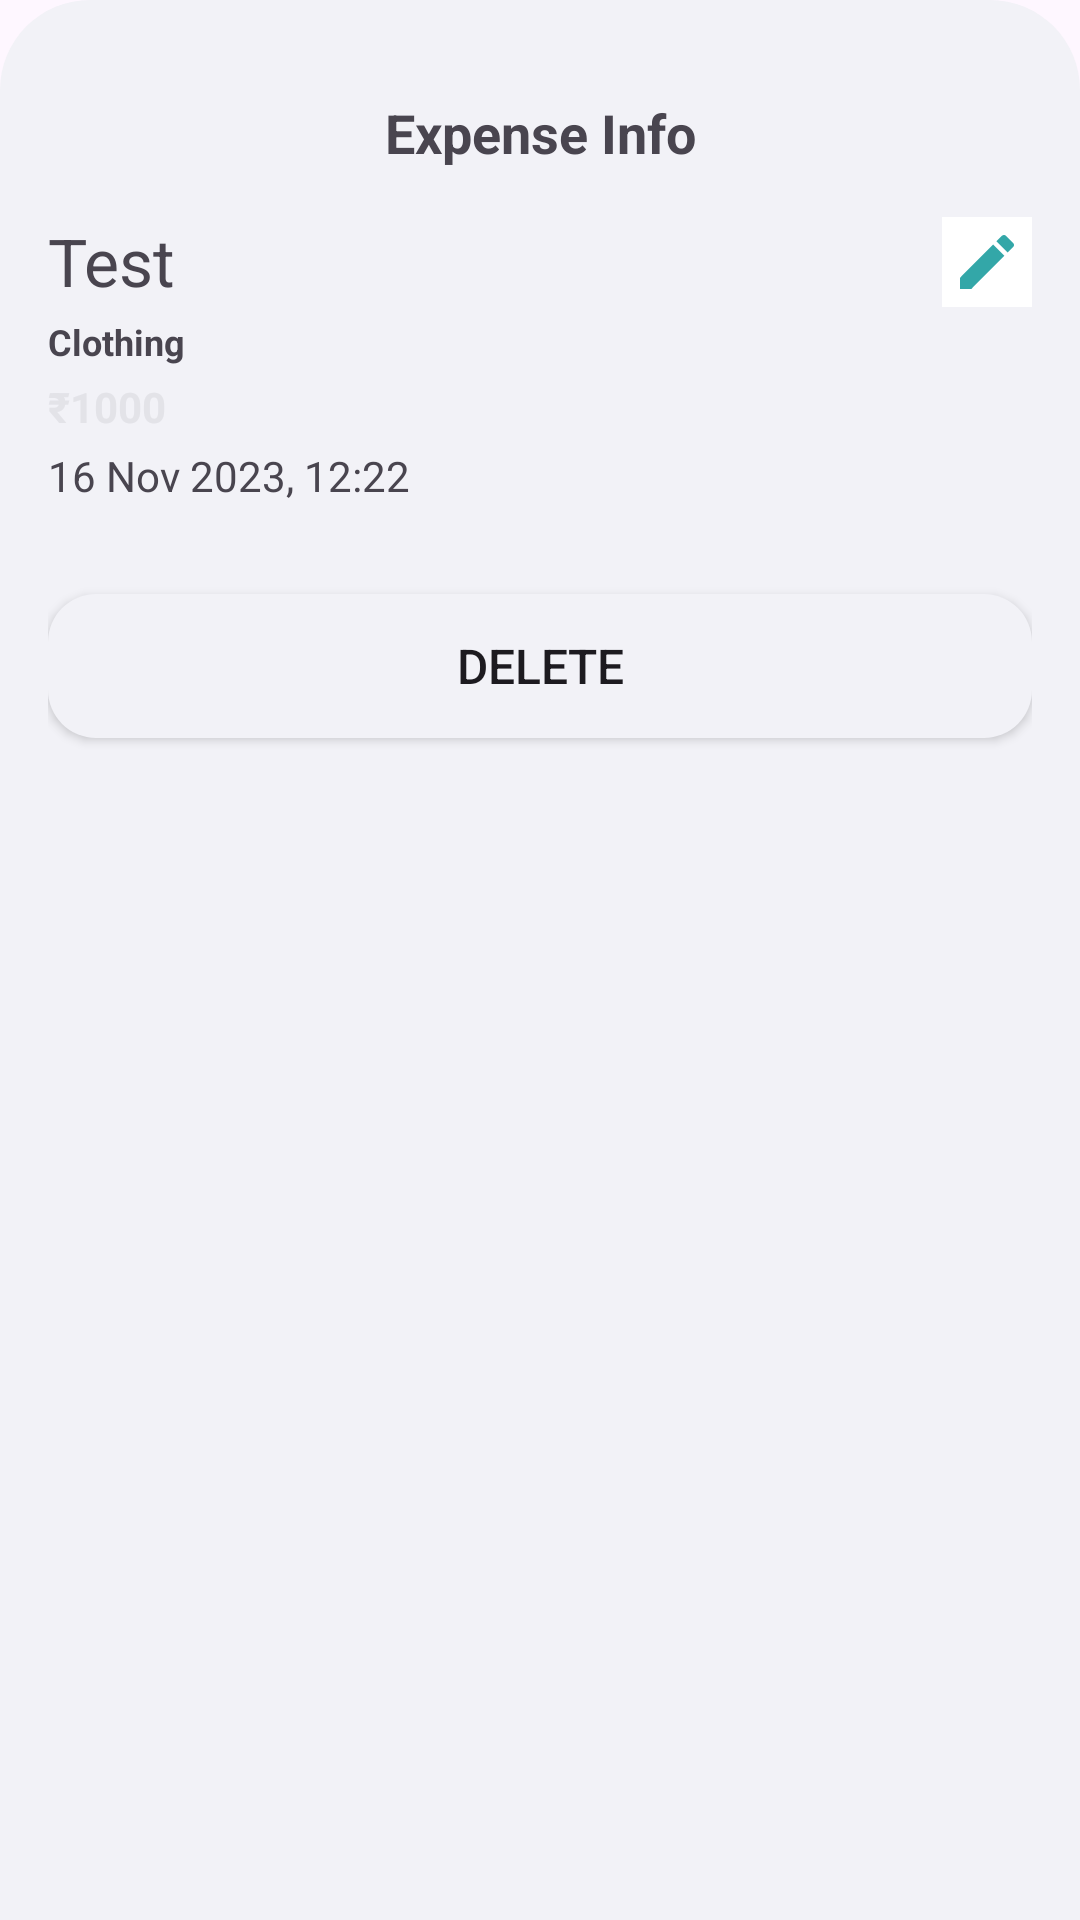

Icon click points for this 1080*1920 phone screenshot, format point (x, y):
edit: point (987, 262)
